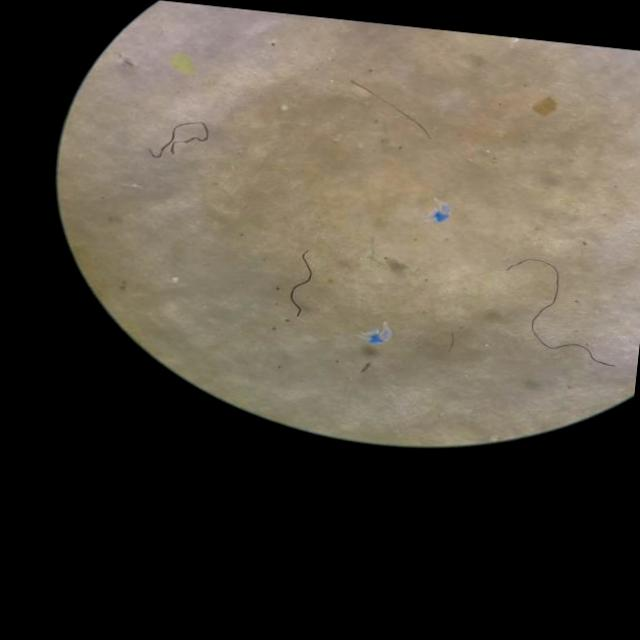fiber: (507, 258, 608, 364), (350, 80, 430, 137), (148, 121, 208, 158), (290, 250, 310, 317)
film: (361, 324, 390, 344), (428, 198, 450, 221)
fragment: (533, 97, 556, 115), (171, 55, 192, 73)
pellet: (280, 105, 287, 111), (171, 277, 177, 282)
